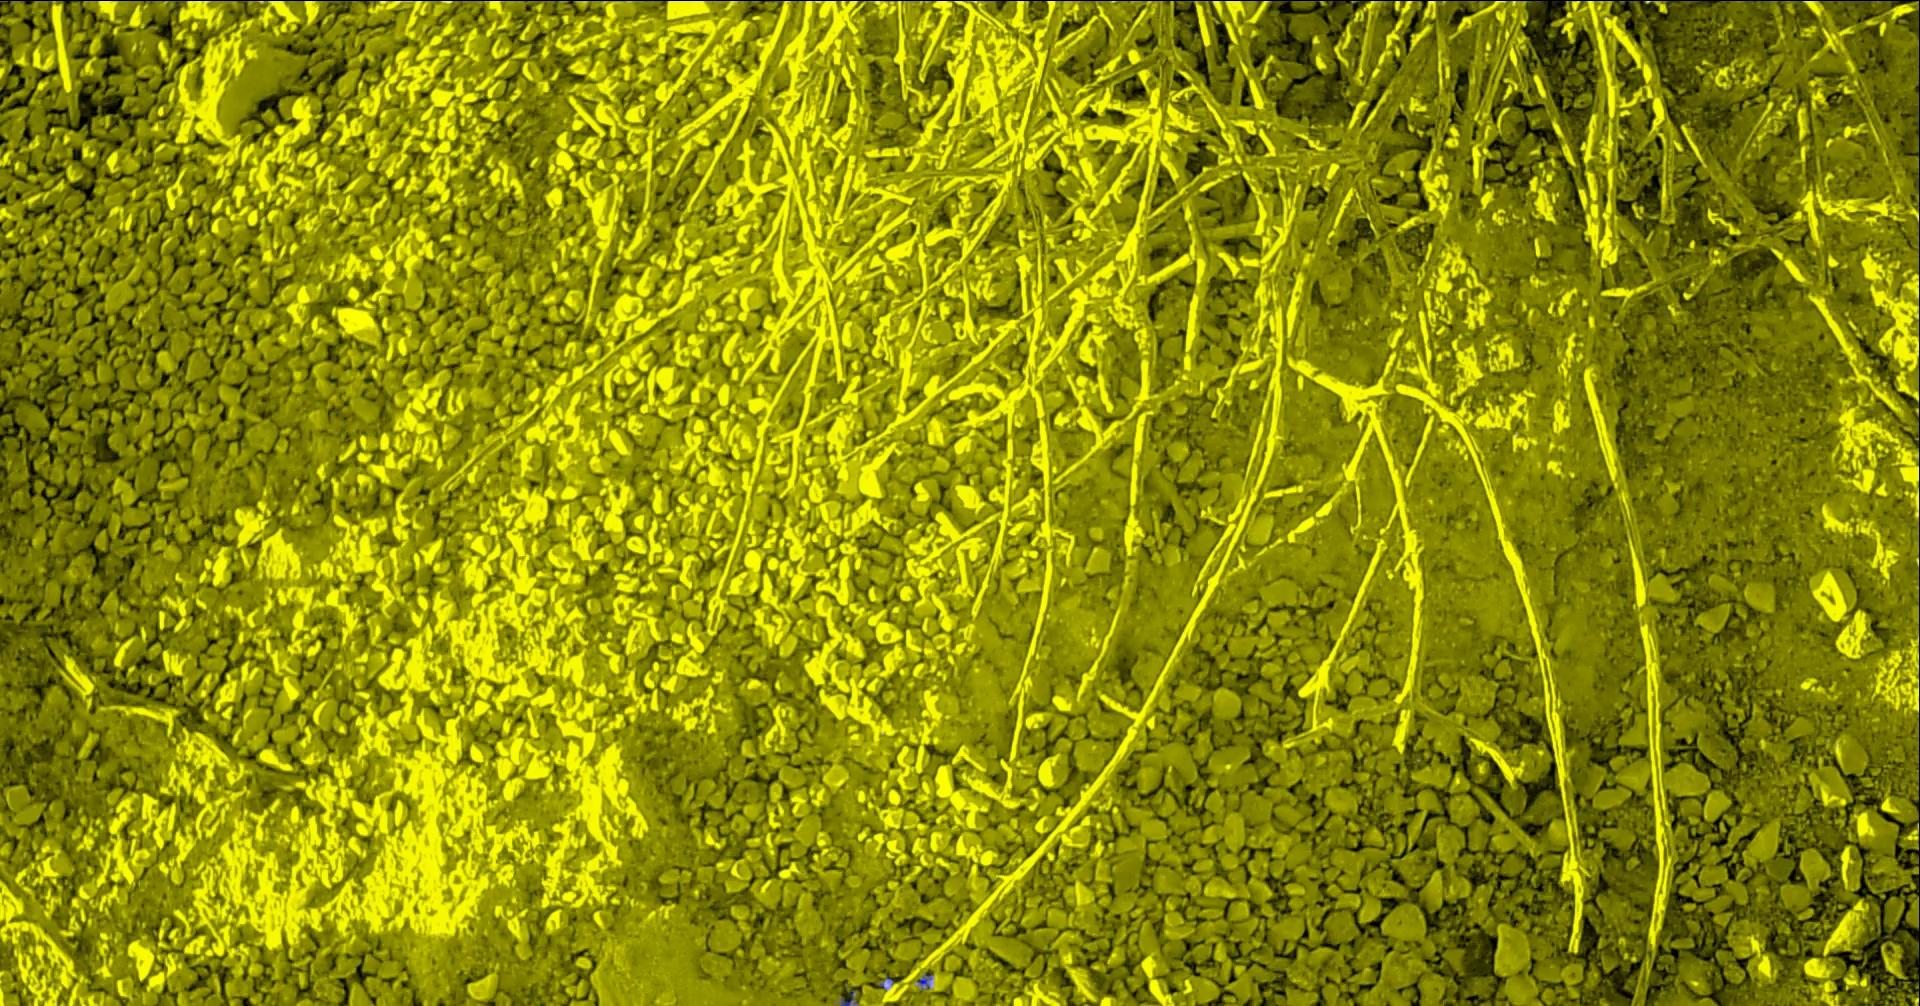ant: (841, 989, 858, 1005), (919, 973, 933, 989), (1821, 0, 1898, 1)
